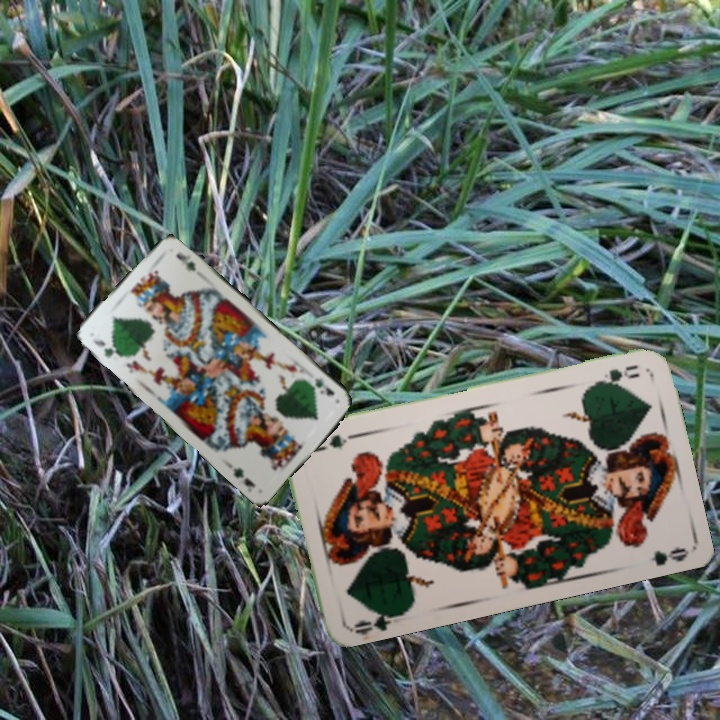GK: (88, 335, 124, 360), (311, 373, 337, 398)
GO: (347, 605, 405, 636), (589, 360, 642, 388)
